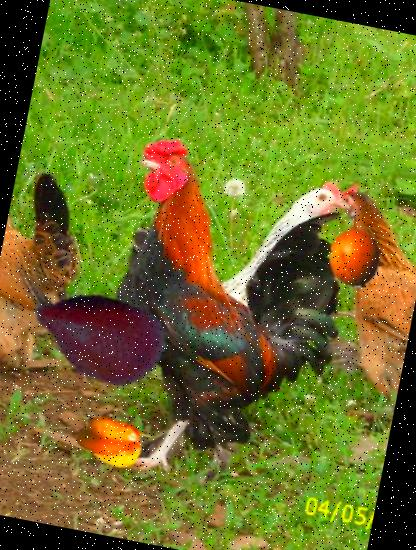Carambula: (71, 400, 151, 480)
Granadilla: (313, 210, 397, 294)
Salak: (17, 256, 178, 417)
